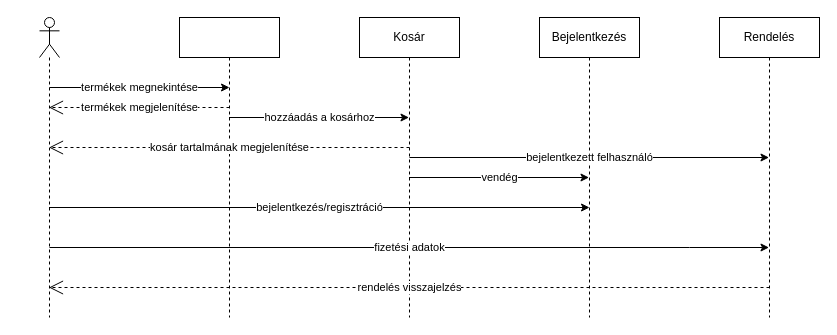
Some shapes in this 837 by 335 pixel diagram are drawn without their labels. Each missing label, with the box of its shape:
Felhasználó: (38, 16, 60, 318)
Termékek: (178, 16, 280, 318)
